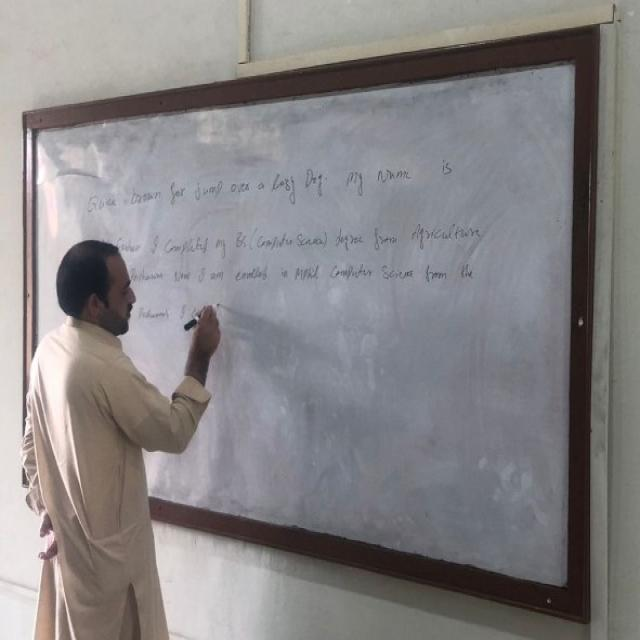Instructor: (17, 226, 164, 639)
White-board: (27, 49, 592, 614)
